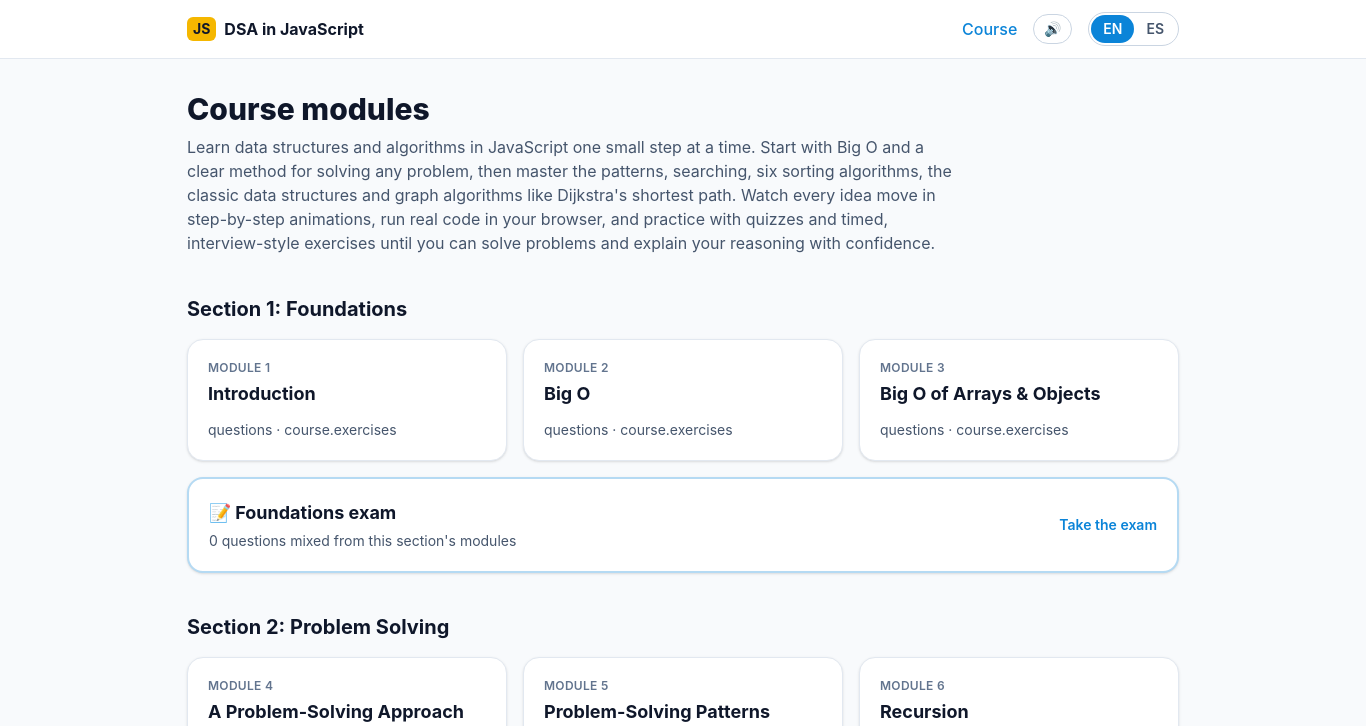
it: language switcher › switches the interface between English and Spanish
Check: the heading "Course modules" is shown, box [187,91,430,127]
Click the button with aria-label "Español" at (1155, 29), box [1134,15,1176,43]
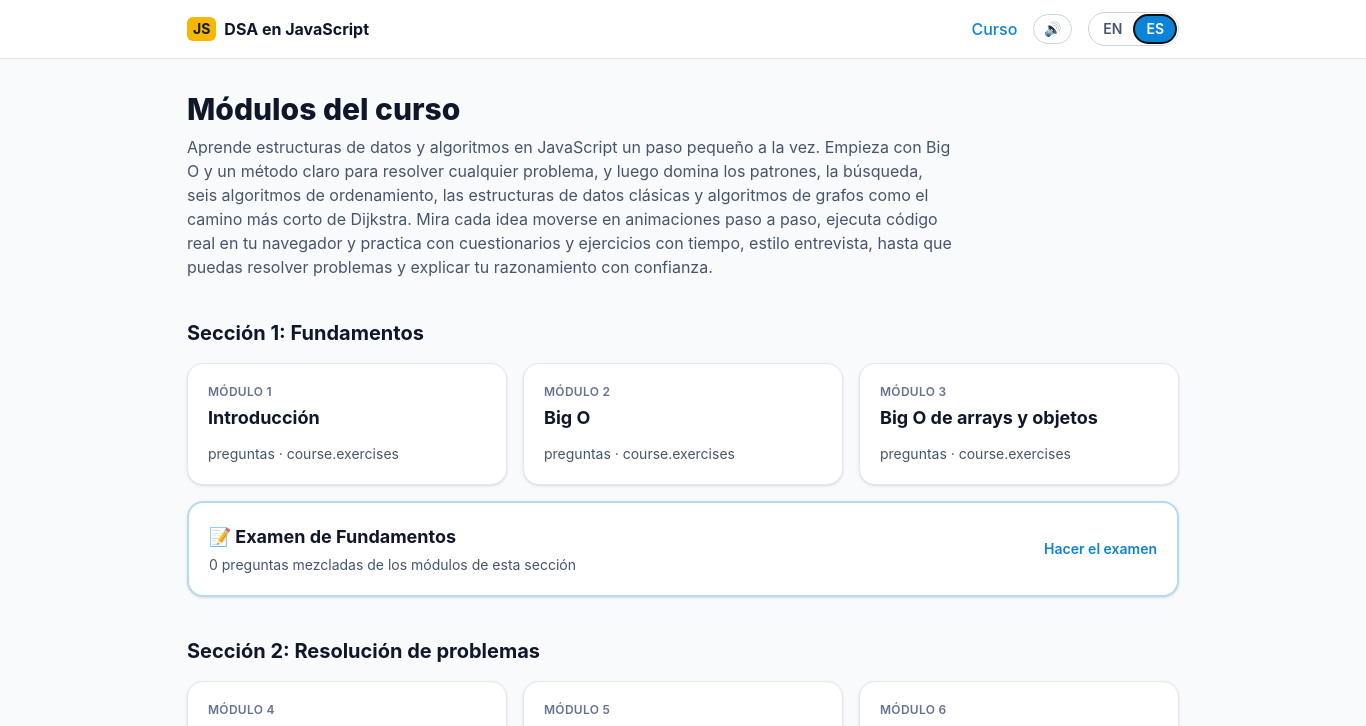
Check: the heading "Módulos del curso" is shown, box [187,91,460,127]
